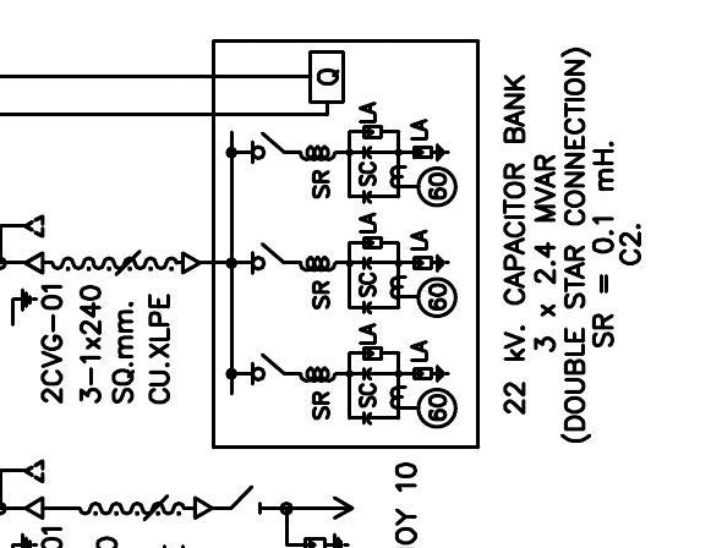22_cap_bank: (211, 38, 481, 450)
Q: (308, 49, 346, 105)
terminator_single: (193, 495, 214, 520), (180, 251, 201, 276)
